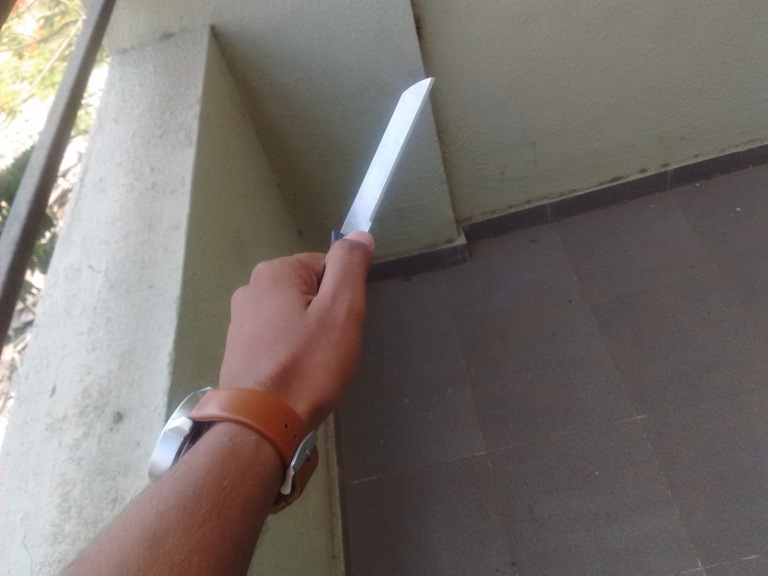knife: (322, 74, 440, 232)
